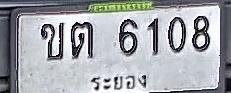0: (167, 16, 186, 53)
1: (148, 17, 158, 56)
6: (118, 18, 138, 56)
8: (192, 16, 210, 51)
A02: (40, 22, 64, 60)
A21: (71, 21, 94, 59)
RYG: (88, 72, 149, 92)
